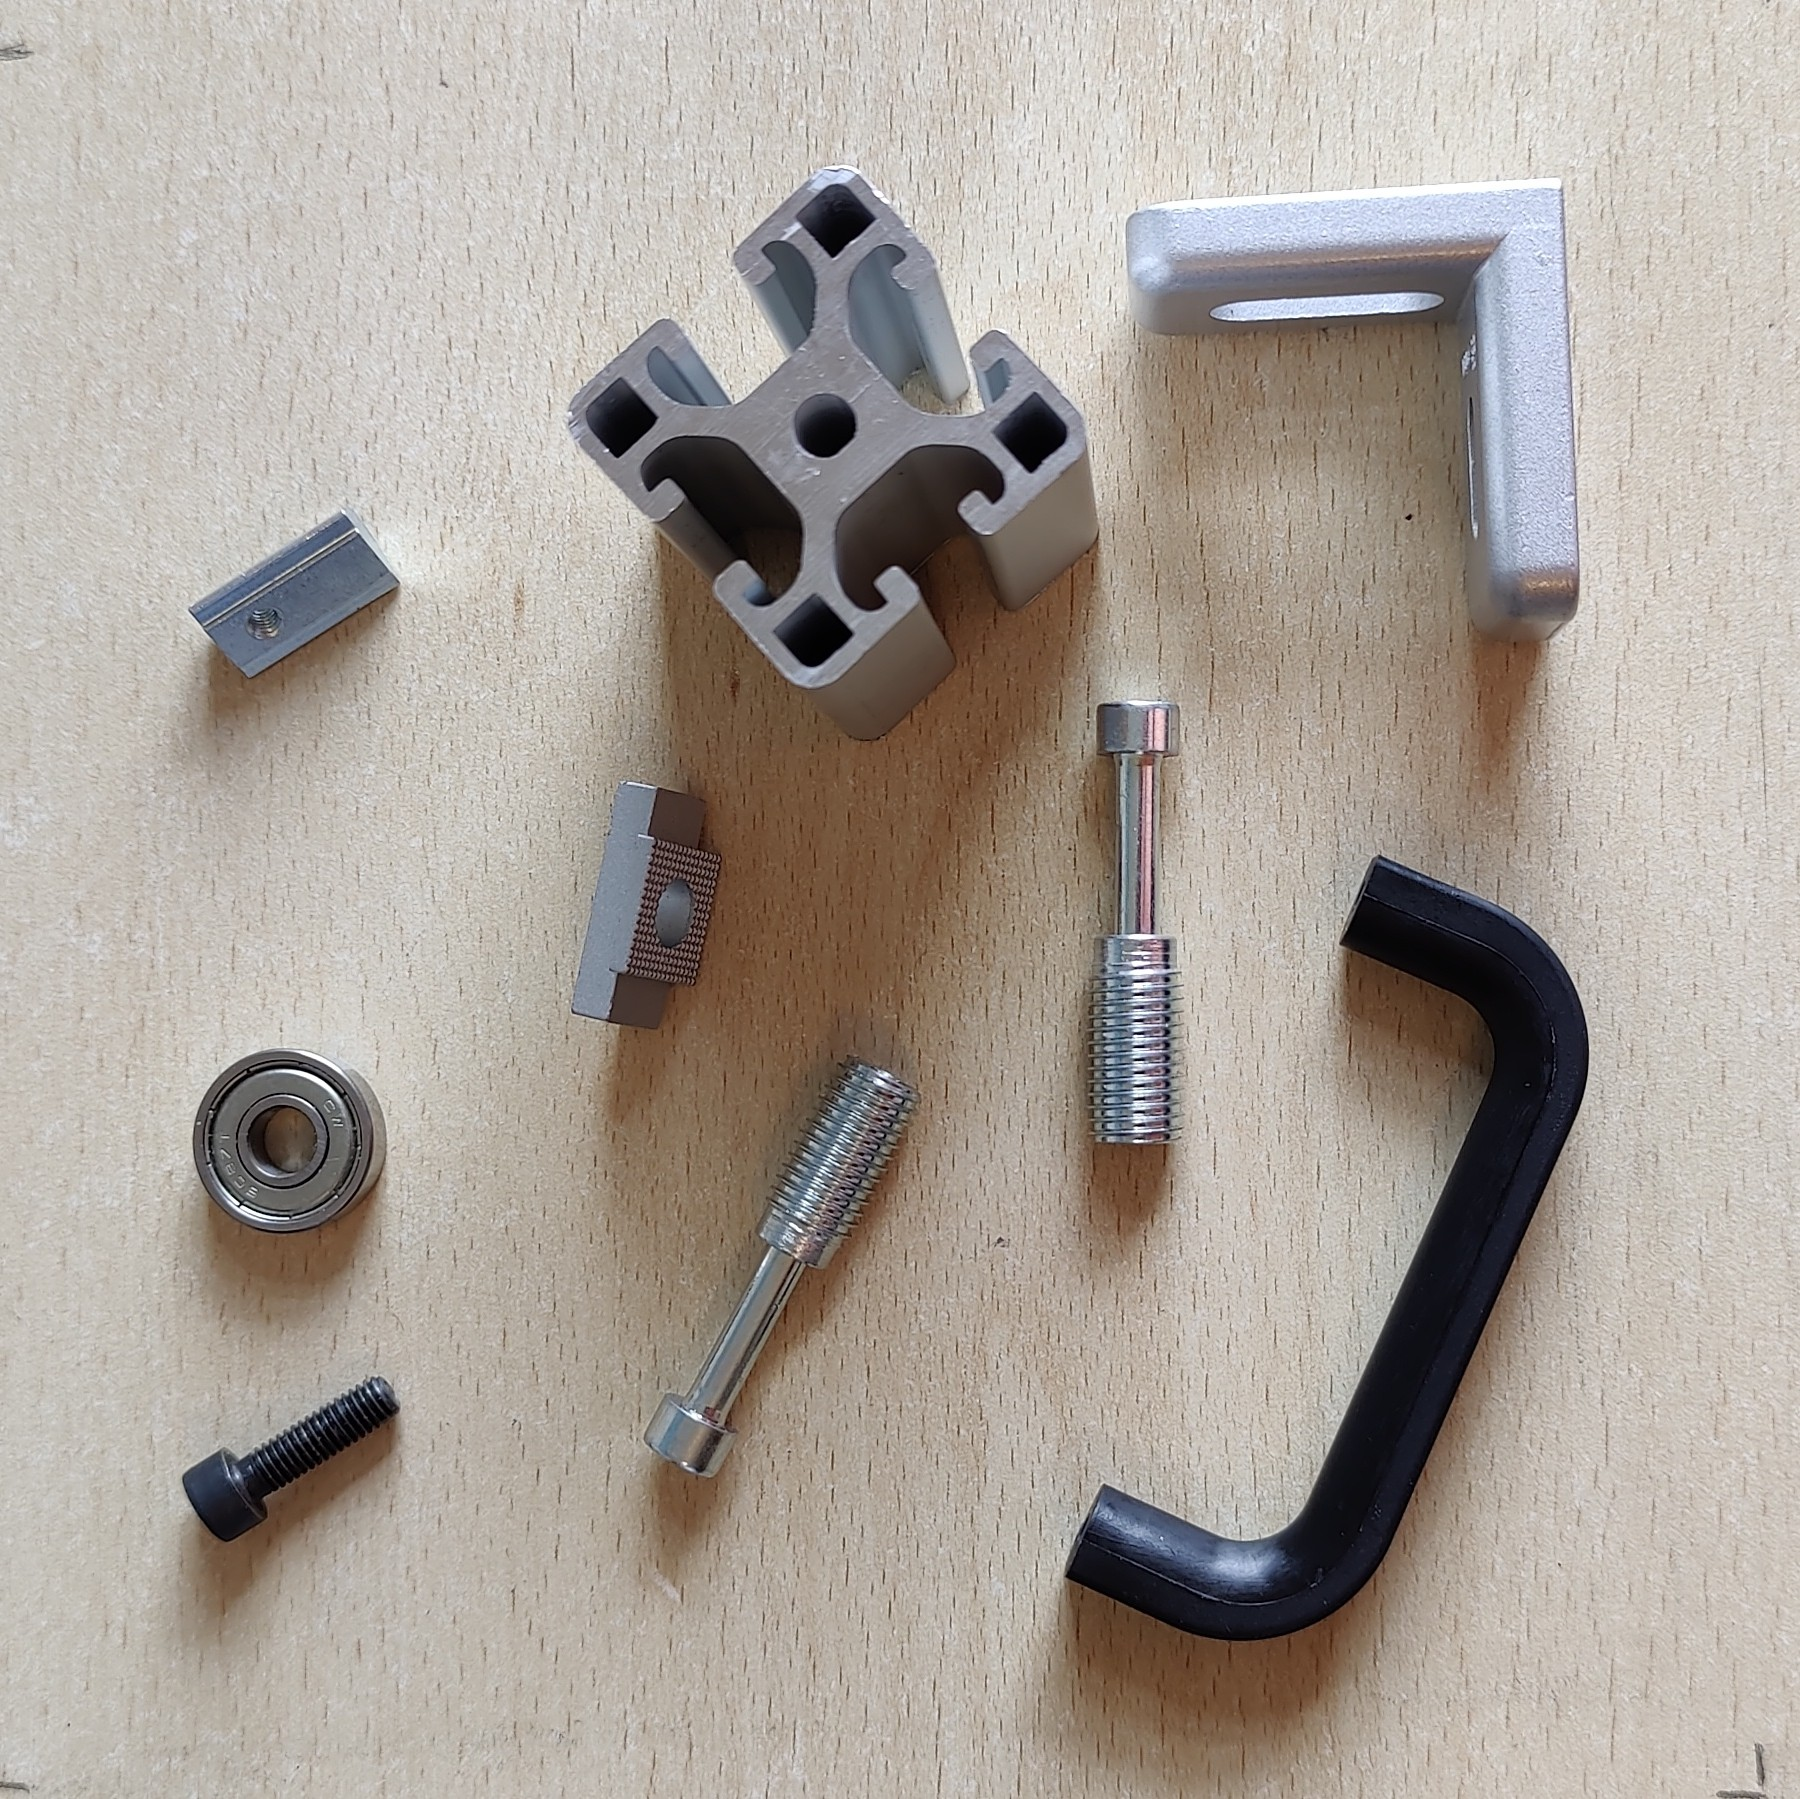Aluminium Extension: (562, 160, 1103, 745)
Ball Bearing: (189, 1044, 390, 1237)
Multiwinkel: (1125, 175, 1583, 646)
Pull Handle: (1061, 850, 1592, 1646)
Shoulder Socket Head Cap Screw: (642, 1053, 926, 1483), (1080, 695, 1187, 1148)
Socket Head Cap Screw: (178, 1369, 405, 1545)
T Nut Square: (570, 774, 725, 1035)
T Spring Nut: (184, 502, 405, 684)
